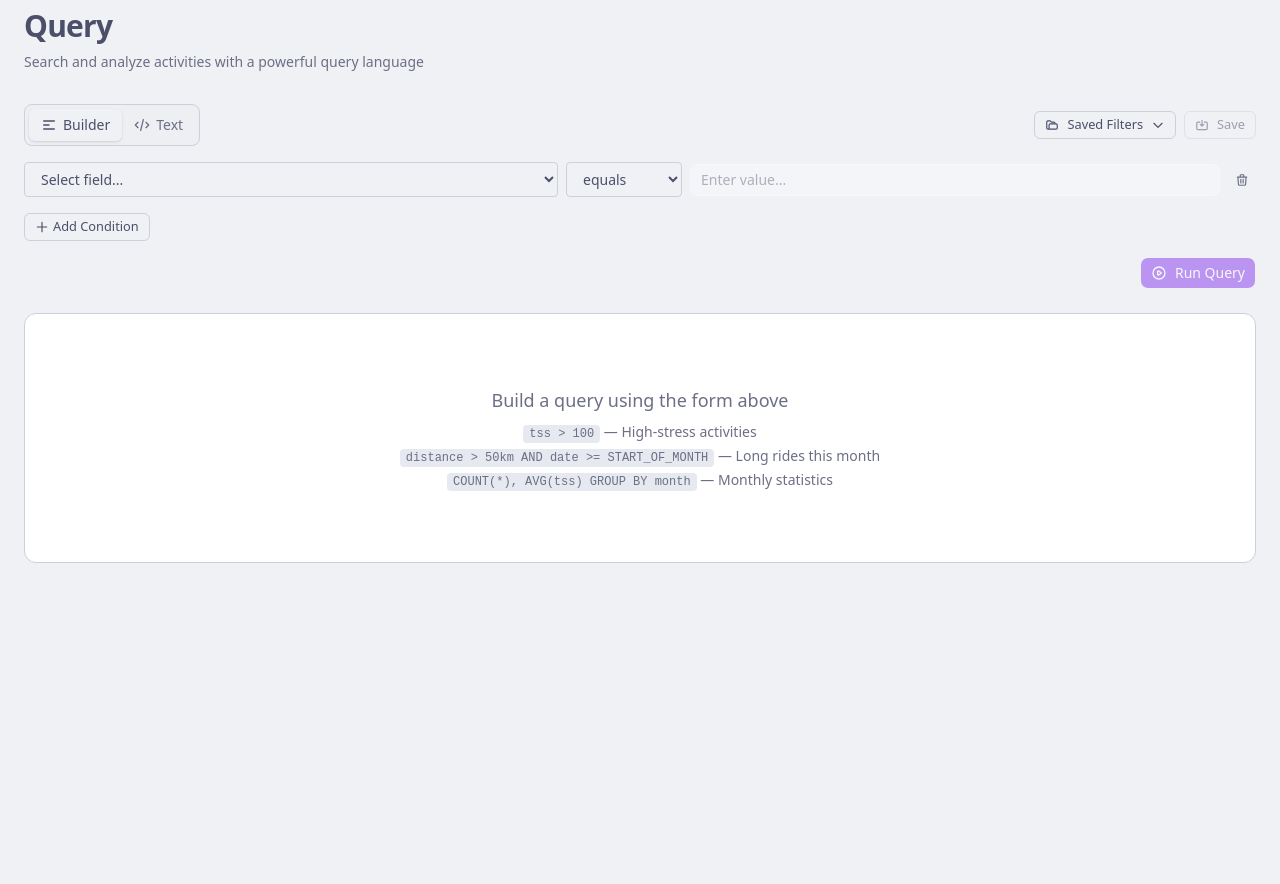
Test: QueryPage › list results › shows pagination for multiple pages
Click the button "Text": [159, 125] box [122, 109, 195, 141]
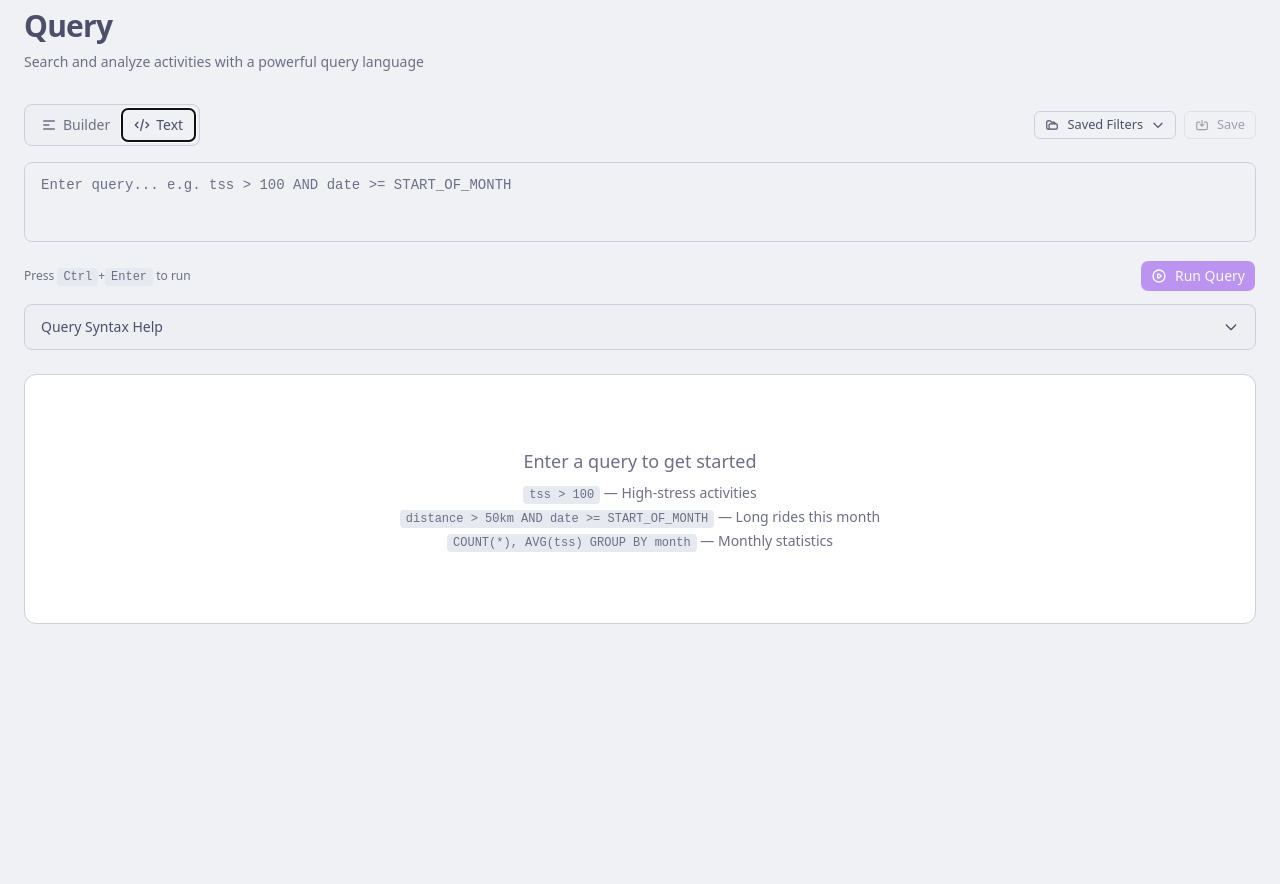
In the text box with placeholder "Enter query... e.g. tss > 100 AND date >= START_OF_MONTH": [640, 202] box [24, 162, 1256, 242], type "tss > 50"
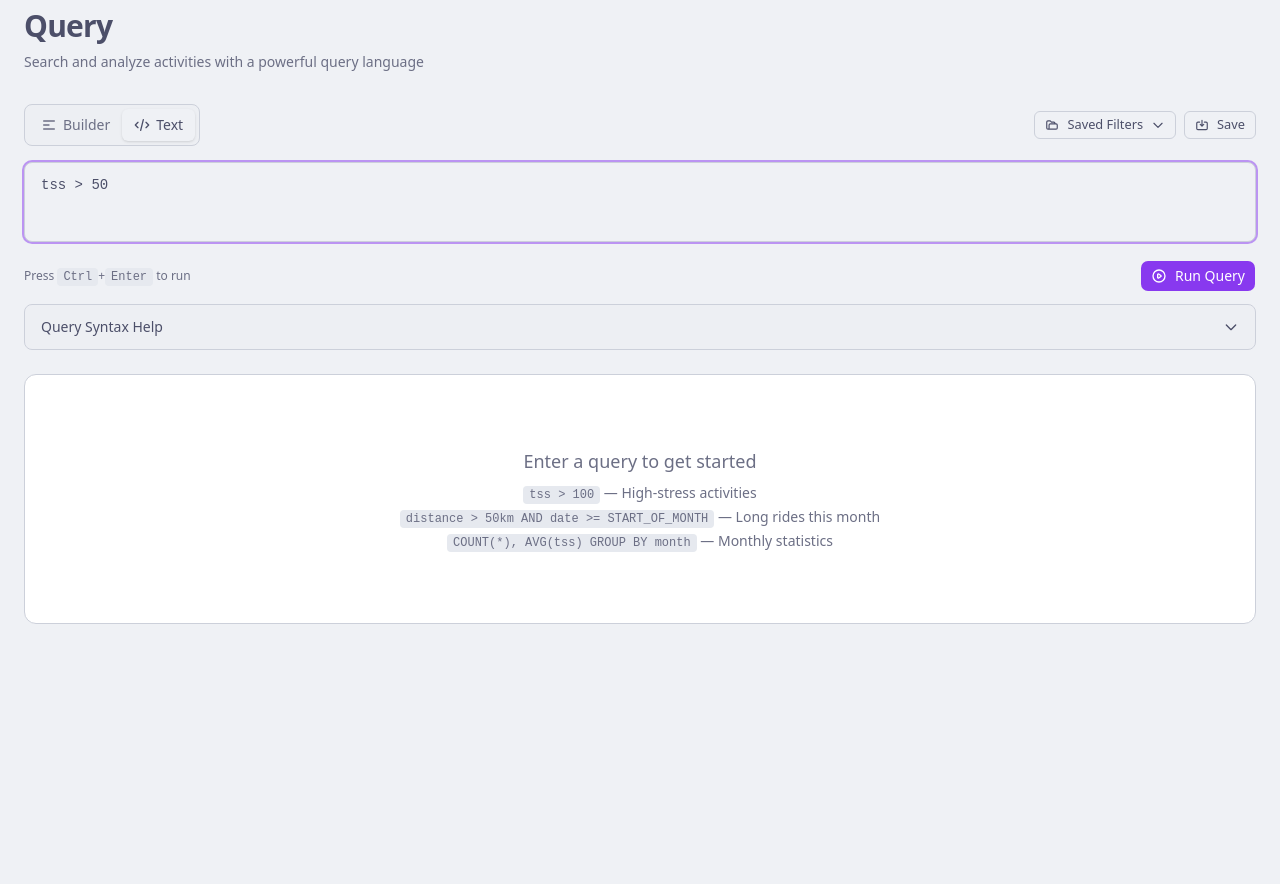
Click the button "Run Query": [1198, 276] box [1140, 260, 1256, 292]
(page scrolled)
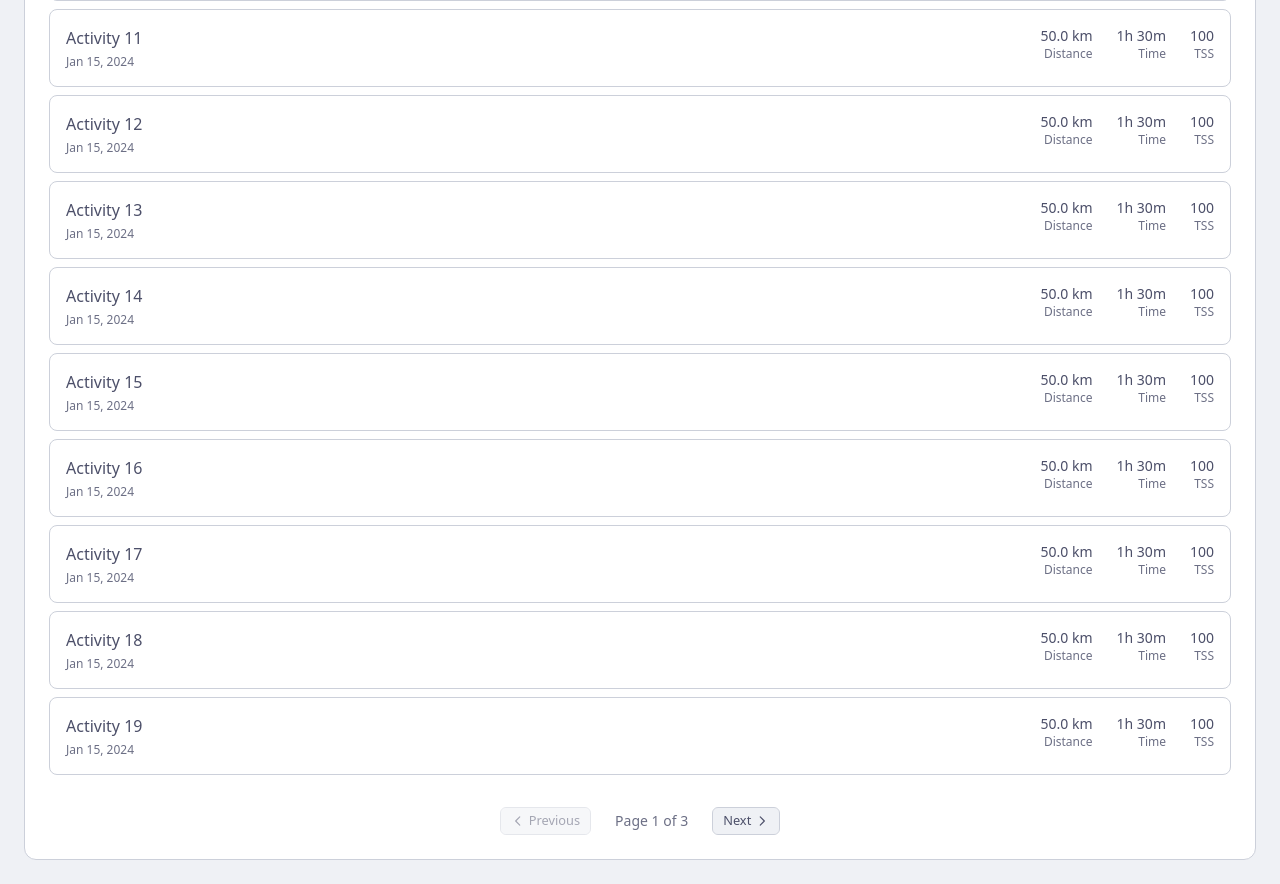
Check: the text "Page 1 of 3" is shown, box [615, 811, 688, 830]
Check: the button "Previous" is disabled, box [500, 807, 591, 835]
Check: the button "Next" is enabled, box [712, 807, 780, 835]
